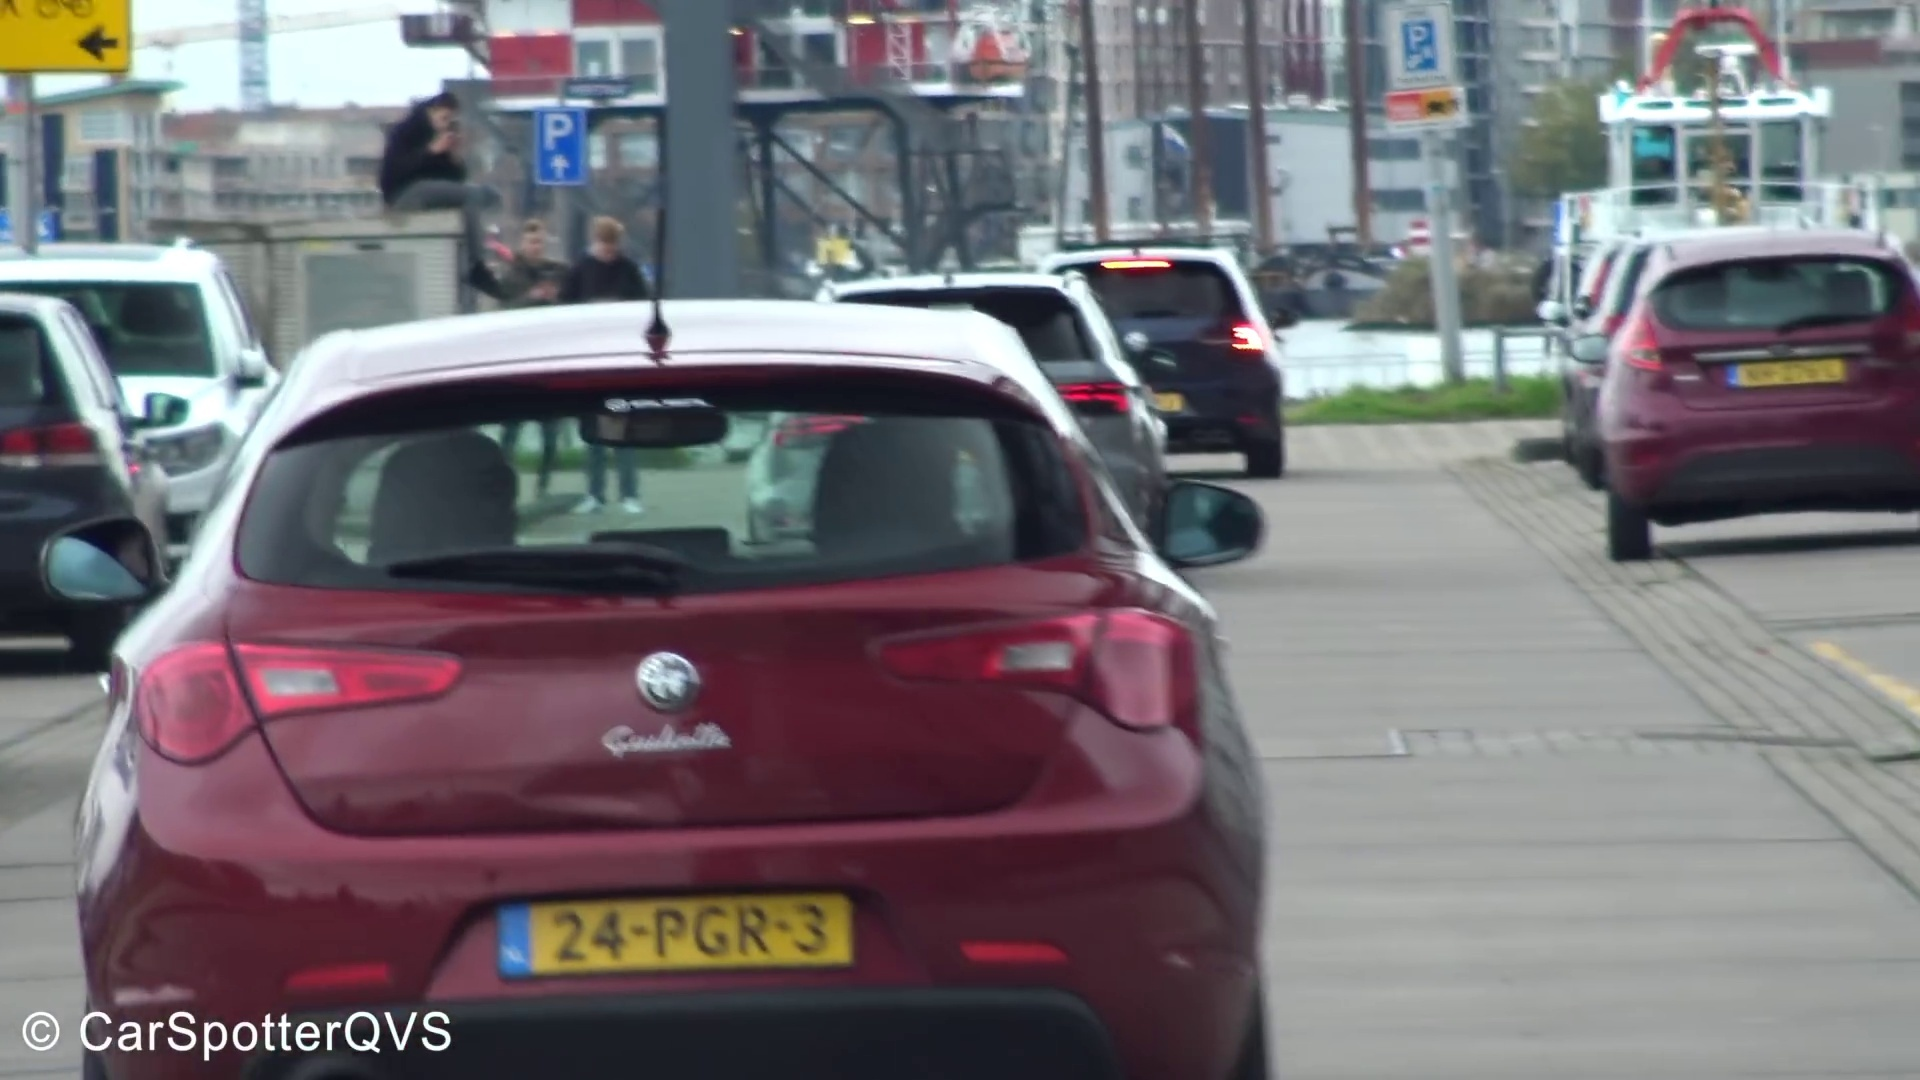number_plate: (493, 885, 858, 967)
